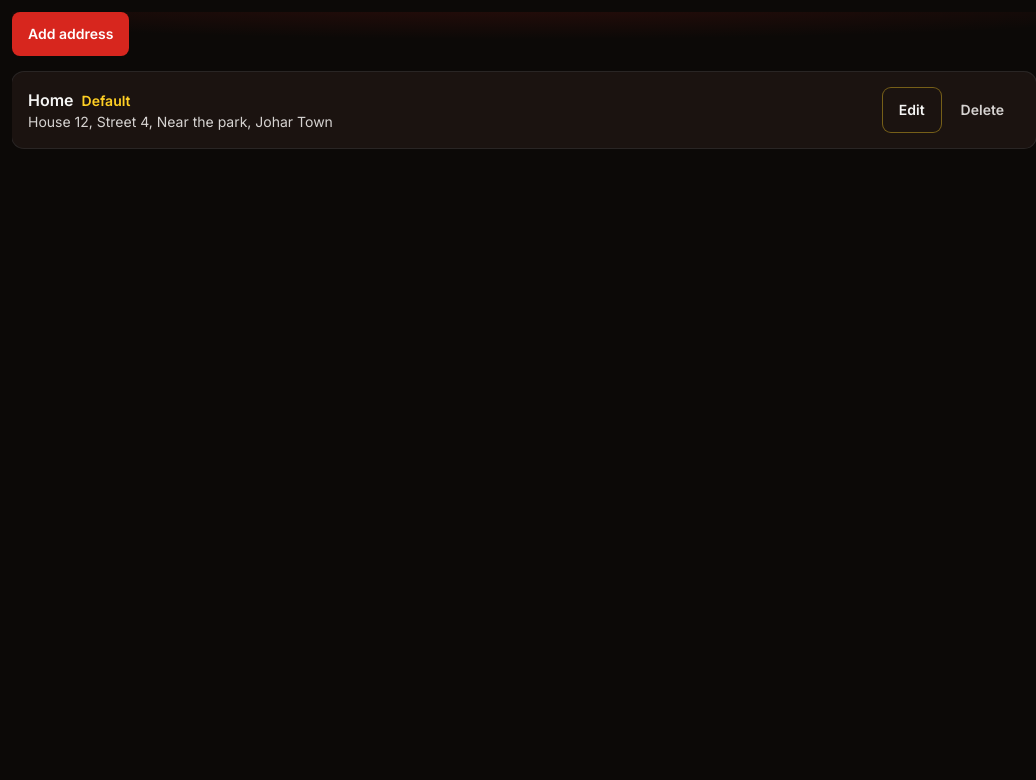
AddressesManager › edits an address with its details filled in
The image size is (1036, 780).
Later steps or results of the test are not shown.
Step 1. Click the button with aria-label "Edit Home" → (912, 110), box top-left (883, 88), bottom-right (941, 132)
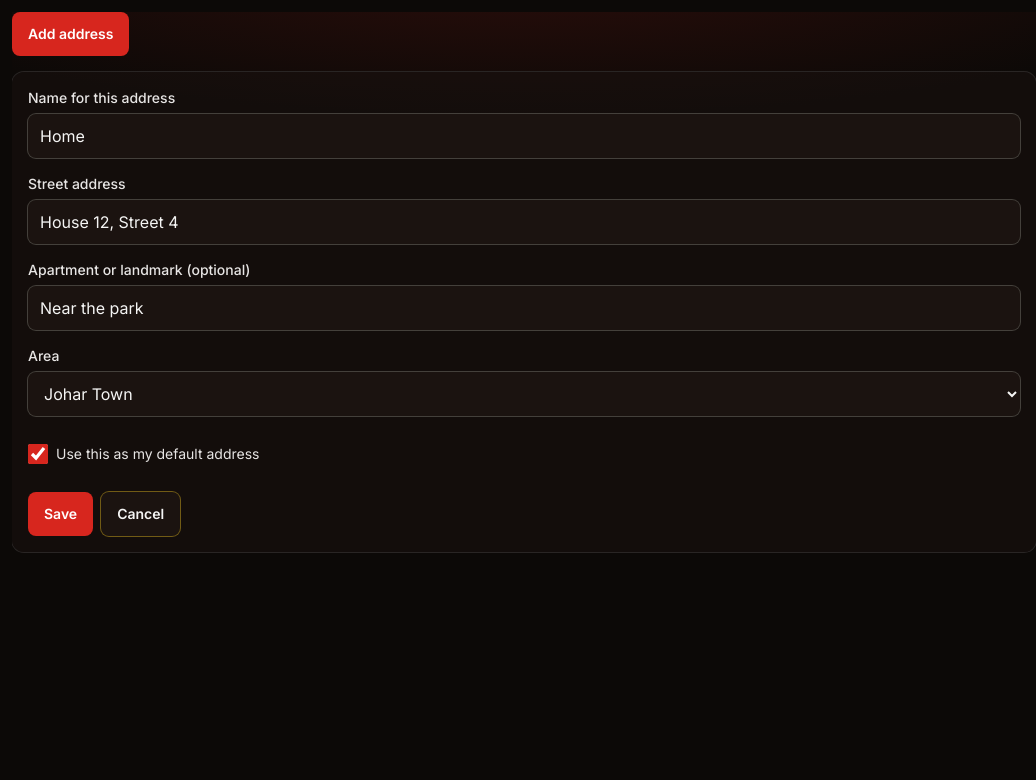
Check: the field labelled "Street address" holds "House 12, Street 4", box top-left (28, 200), bottom-right (1020, 244)
Check: the field labelled "Apartment or landmark (optional)" holds "Near the park", box top-left (28, 286), bottom-right (1020, 330)
Check: the checkbox labelled "Use this as my default address" is checked, box top-left (28, 444), bottom-right (48, 464)
